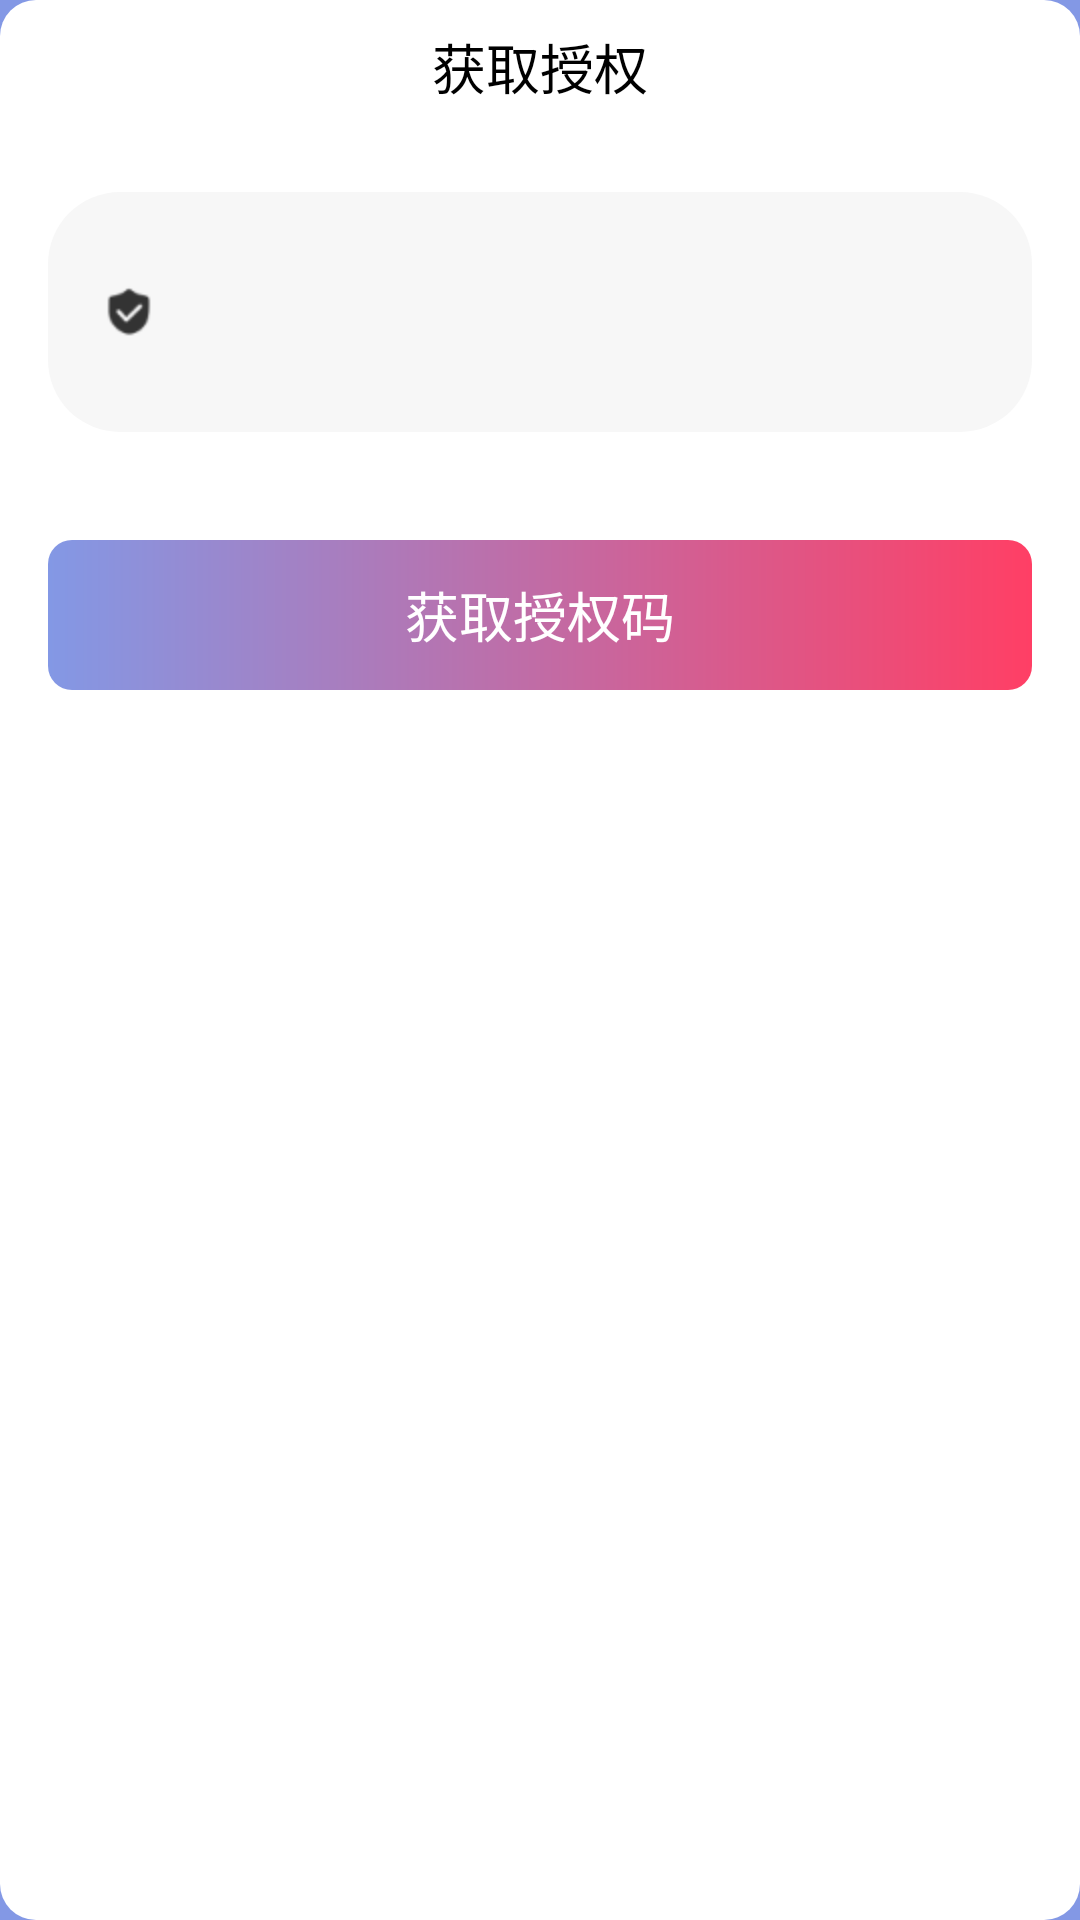

Point at icon controls on the screen. Image size 1080x1920, points as (x=x, y=y).
login pwd: (x=129, y=312)
